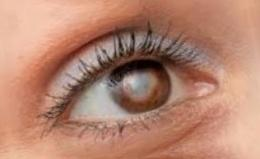eye: (109, 58, 171, 113)
